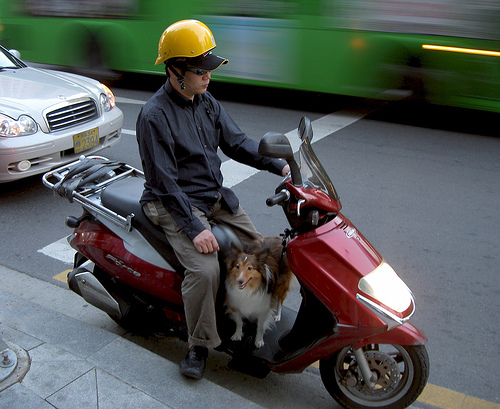helmet: (146, 17, 216, 65)
